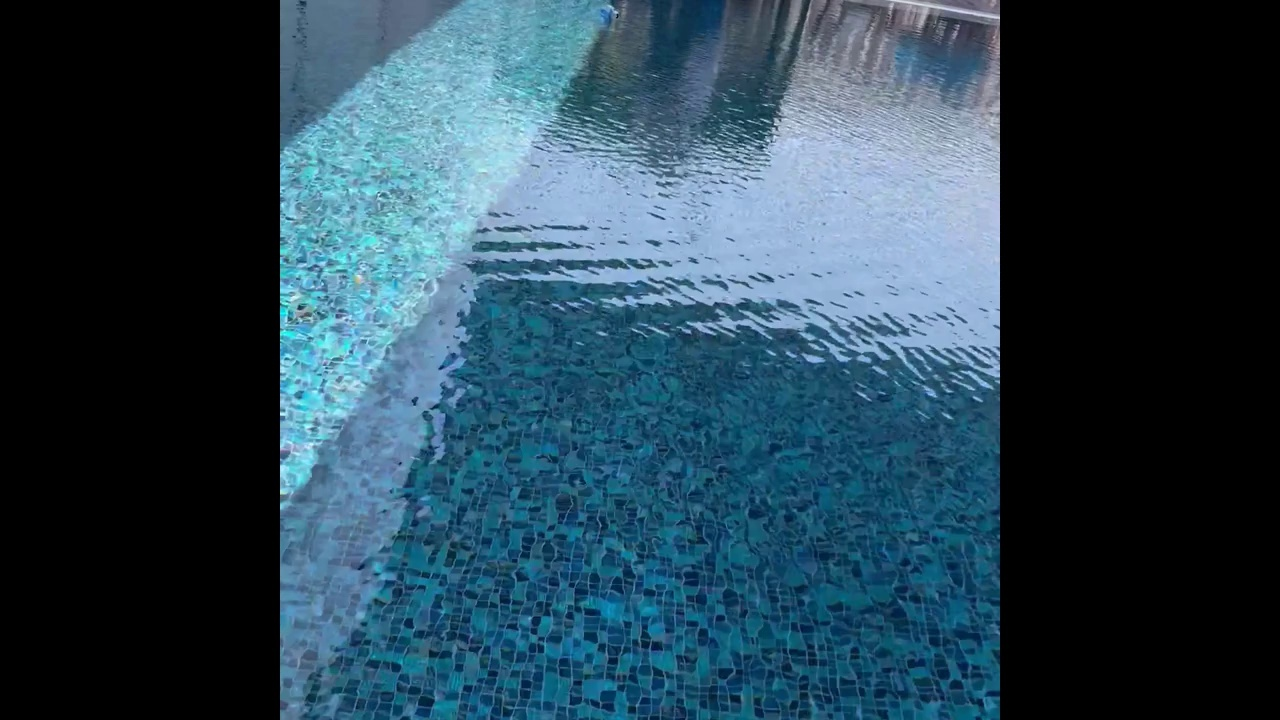debris: (599, 3, 622, 22)
